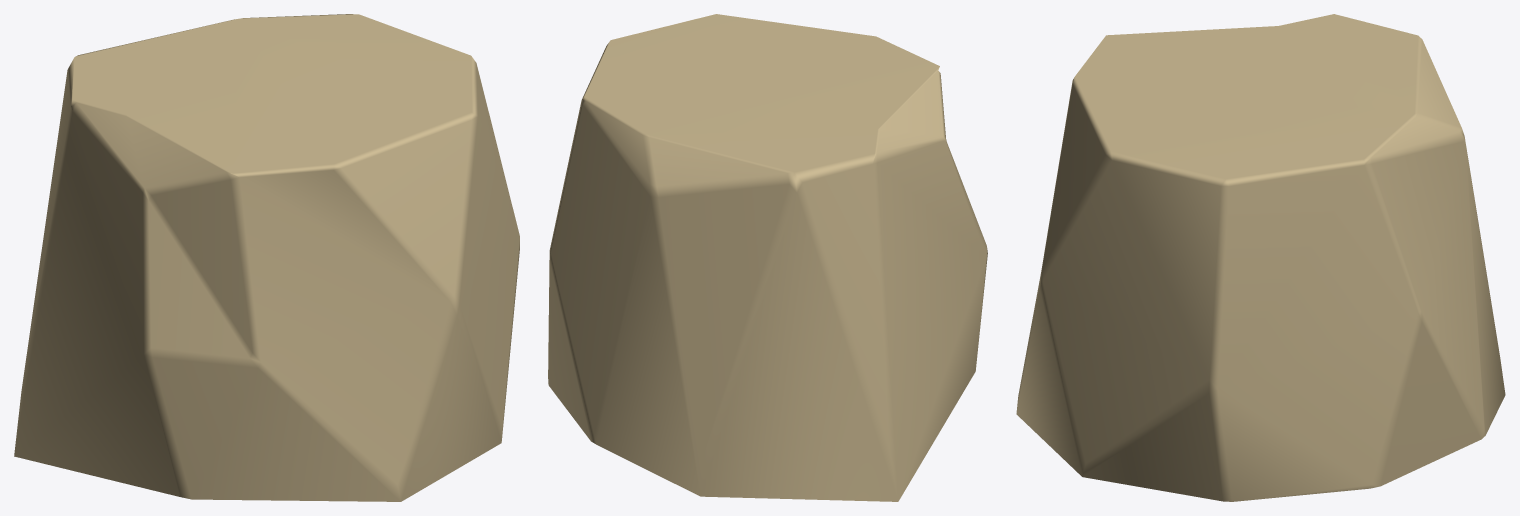
Rendered from PlatformRock_2.fbx.
3 views of the same model, side by side, from view 1: azimuth 30°, elevation 25°; view 2: azimuth 150°, elevation 25°; view 3: azimuth 270°, elevation 25° (orthographic). The views are drawn at different scales.
Visible parts, largest first — view 1: Cube.037; view 2: Cube.037; view 3: Cube.037.
Boxes of the visible parts, x1,y1,x2,y2 form: Cube.037: [14, 14, 519, 501]; Cube.037: [548, 14, 987, 501]; Cube.037: [1016, 14, 1505, 501].
Size of the model in its own units: 282 by 226 by 284.
